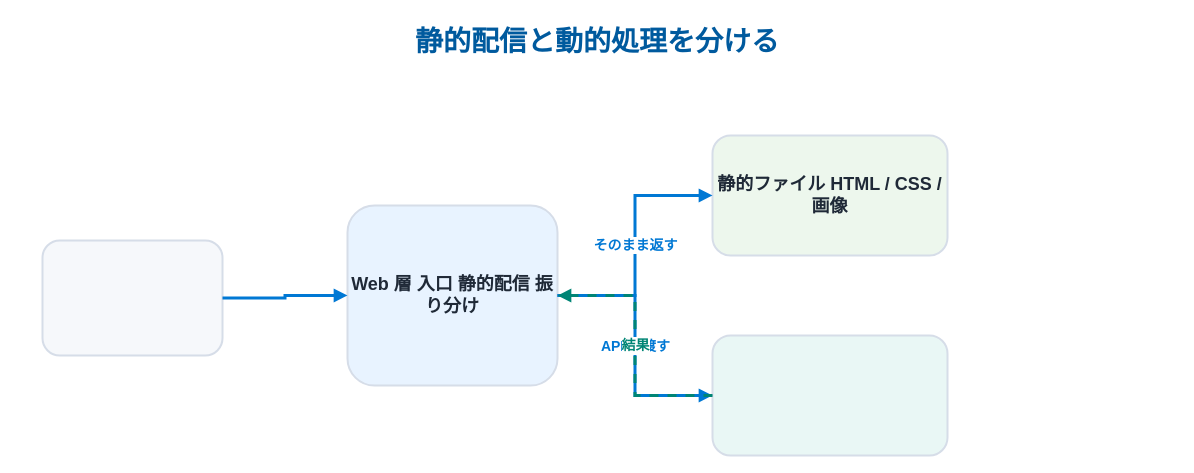
Some shapes in this 1194 by 473 pixel diagram are drawn without their labels. Each missing label, with the centre of its shape:
AP 層 API / 業務処理: (x=829, y=395)
ブラウザー アクセス: (x=132, y=297)
